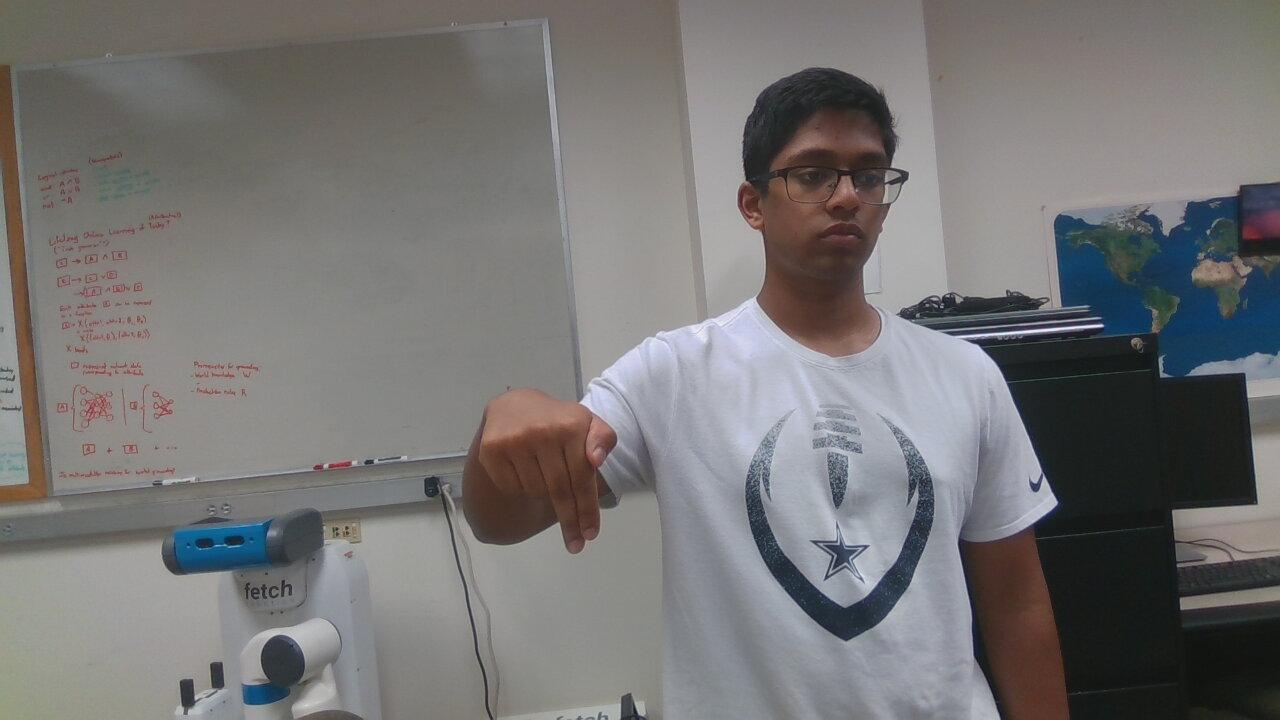hands: (463, 377, 629, 553)
